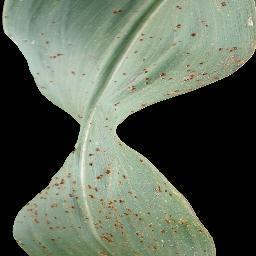Corn_Common_Rust: (130, 144, 219, 256), (72, 113, 131, 256), (11, 163, 72, 256), (127, 70, 171, 93), (176, 62, 216, 87), (216, 46, 256, 69), (31, 61, 56, 96), (5, 30, 29, 47), (133, 27, 160, 42), (211, 0, 235, 12), (40, 27, 53, 47), (108, 99, 125, 114), (45, 49, 64, 61), (107, 7, 129, 16), (196, 17, 210, 30), (69, 68, 89, 77), (174, 3, 187, 15), (168, 21, 182, 32), (187, 30, 199, 42), (0, 12, 11, 20)
